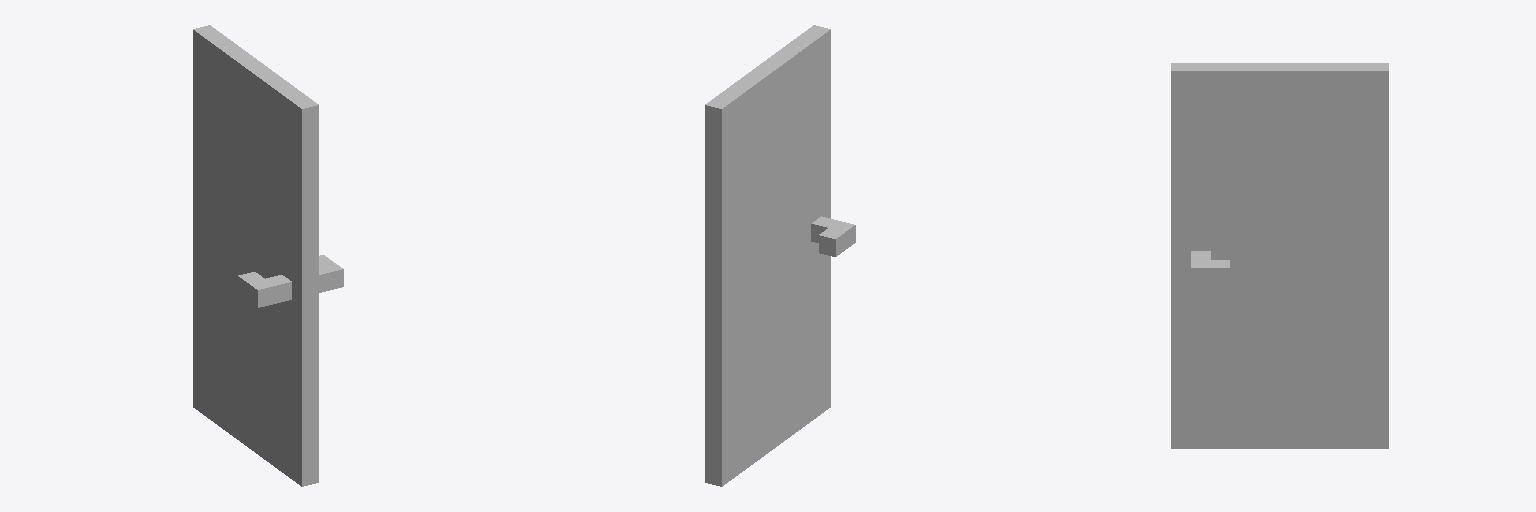
File: door.obj
3 views of the same model, side by side, from view 1: azimuth 30°, elevation 25°; view 2: azimuth 150°, elevation 25°; view 3: azimuth 270°, elevation 25° (orthographic).
Visible parts, largest first — view 1: object 1; view 2: object 1; view 3: object 1.
Boxes of the visible parts, box(x1,y1,x2,y2) form: object 1: box(193, 25, 343, 486); object 1: box(705, 25, 855, 486); object 1: box(1171, 63, 1388, 448).
Bounding box in the file's own units: 0.5 × 2.1 × 1.1.